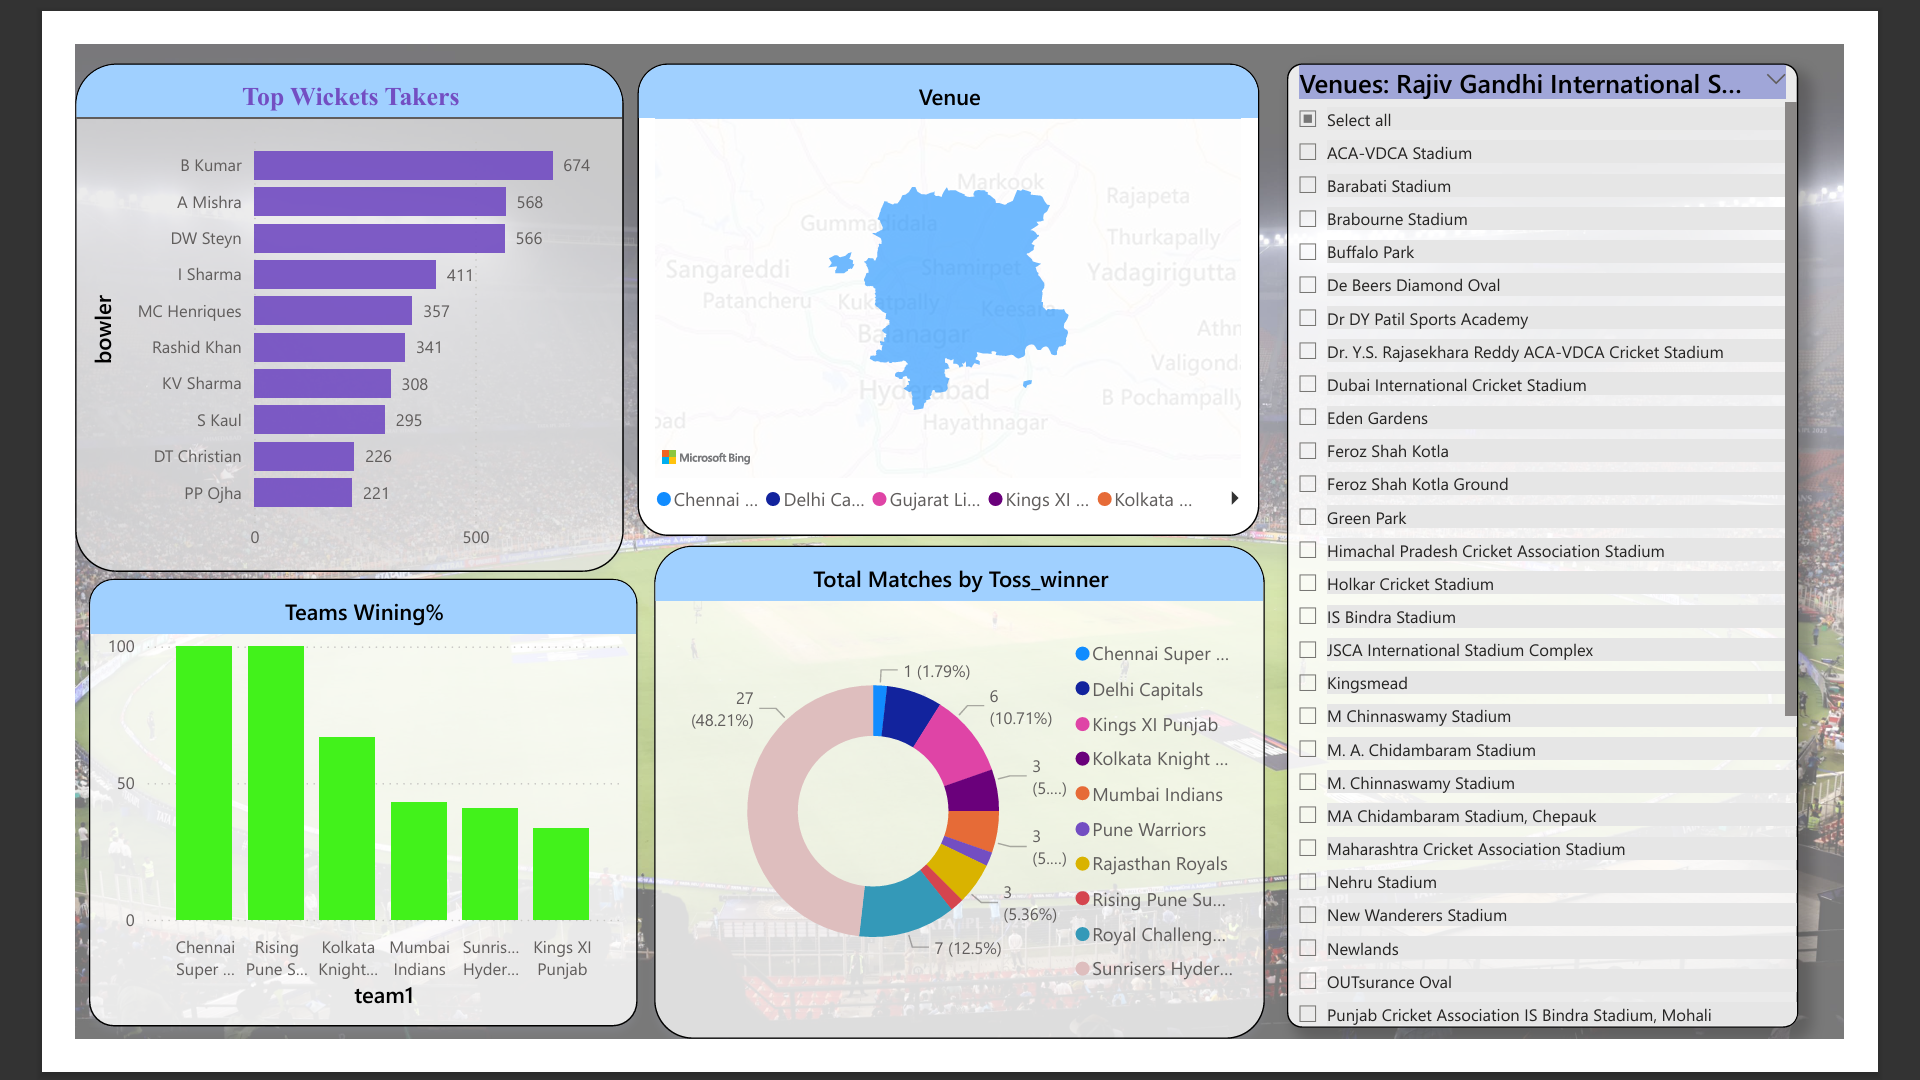

What the dashboard file says about the page in this screenshot:
{"tool":"powerbi","page":{"name":"Page-2","canvas":[1280,720],"ordinal":1},"visuals":[{"type":"clusteredBarChart","title":"Top Wickets Takers","fields":{"Y":["1 deliveries.Wickets"],"Category":["1 deliveries.bowler"]},"box":[0,14.5,396.9,368],"z":0},{"type":"filledMap","title":"Venue","fields":{"Category":["matches.city"],"Series":["4 Teams.team1"]},"box":[406.6,14.5,450,341.4],"z":1000},{"type":"slicer","fields":{"Values":["matches.venue"]},"box":[877.1,14.5,370.4,697.3],"z":2000},{"type":"columnChart","title":"Teams Wining%","fields":{"Y":["matches.Win %"],"Category":["4 Teams.team1"]},"box":[10,387.1,397.1,324.3],"z":3000},{"type":"donutChart","title":"Total Matches by Toss_winner","fields":{"Y":["1 deliveries.Total Matches"],"Series":["matches.toss_winner"]},"box":[418.6,363.1,442.8,357.1],"z":4000}]}

Visuals, with their boxes in screenshot pixels (x1, y1, x2, y2), scaled from the page's 1280x720 canvas onto the 1920x1080 screenshot:
"Top Wickets Takers" clusteredBarChart: 0/22/595/574
"Venue" filledMap: 610/22/1285/534
slicer - matches.venue: 1316/22/1871/1068
"Teams Wining%" columnChart: 15/581/611/1067
"Total Matches by Toss_winner" donutChart: 628/545/1292/1079
